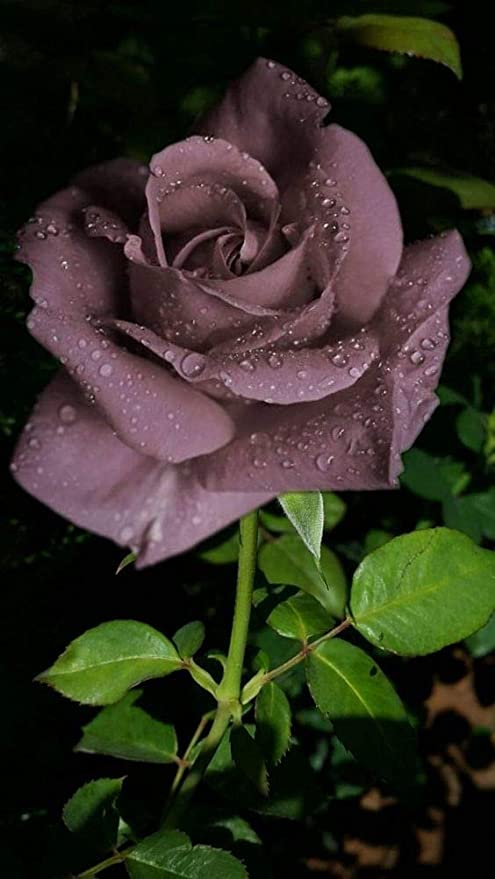rose: (15, 64, 484, 561)
